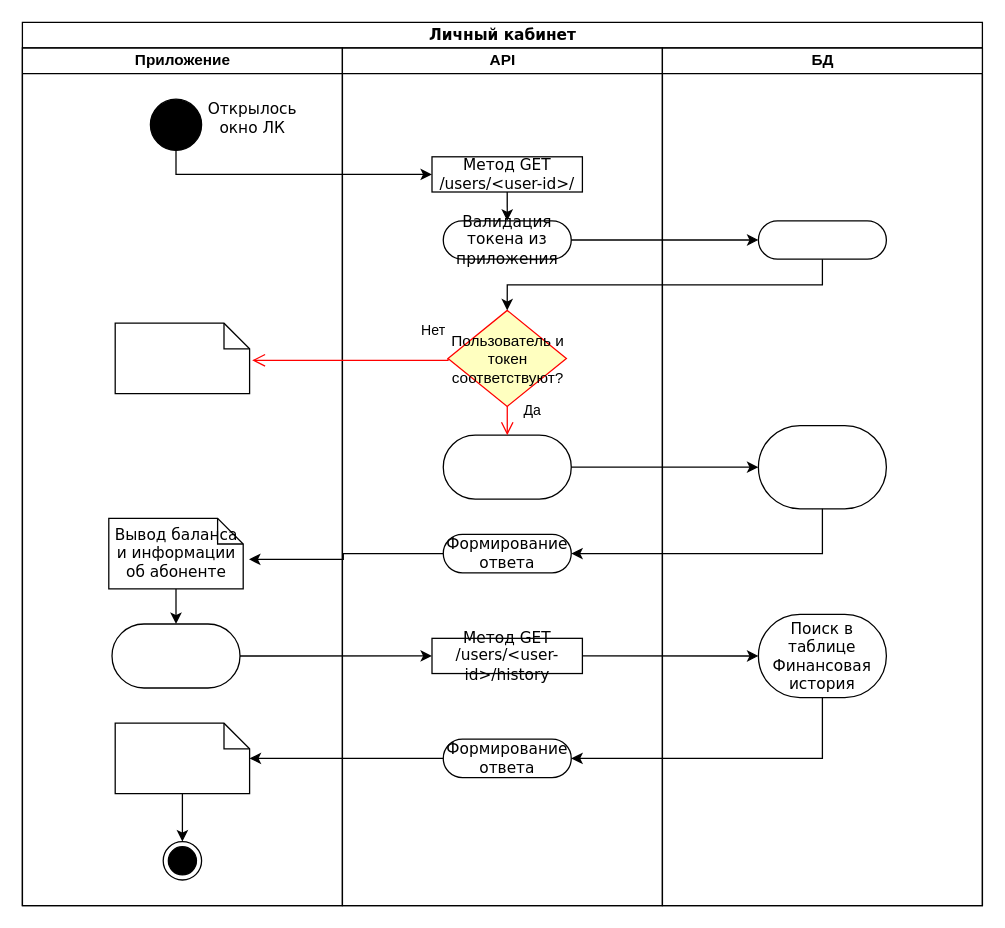
This 1005x928 diagram has some shape labels left out. Here are the shapes that lost their labels. From the top down, the centre of each, then its label:
the point at 821,239: Поиск в таблице Пользователь
the point at 182,358: Сообщение об ошибке
the point at 506,466: Определение баланса и основной инф-ии
the point at 821,466: Поиск в таблице Пользователь и Финансовая история
the point at 175,655: Пользователь нажал "История операций"
the point at 182,758: Вывод финансовой истории абонента
